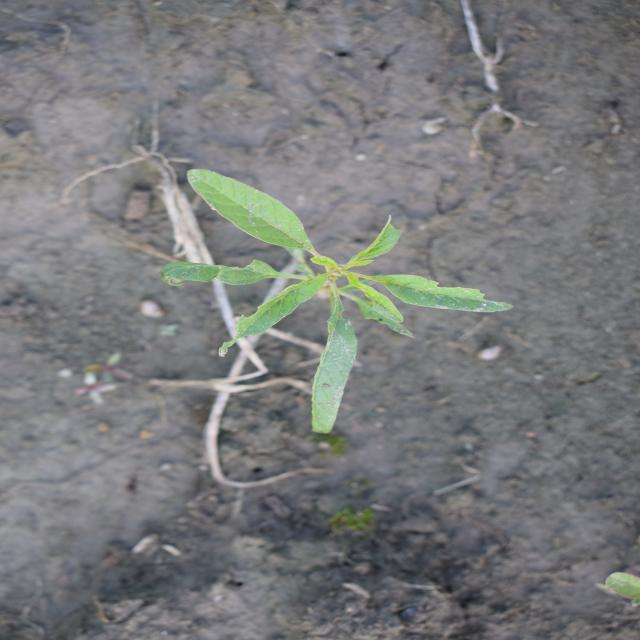Waterhemp: (152, 166, 517, 435)
